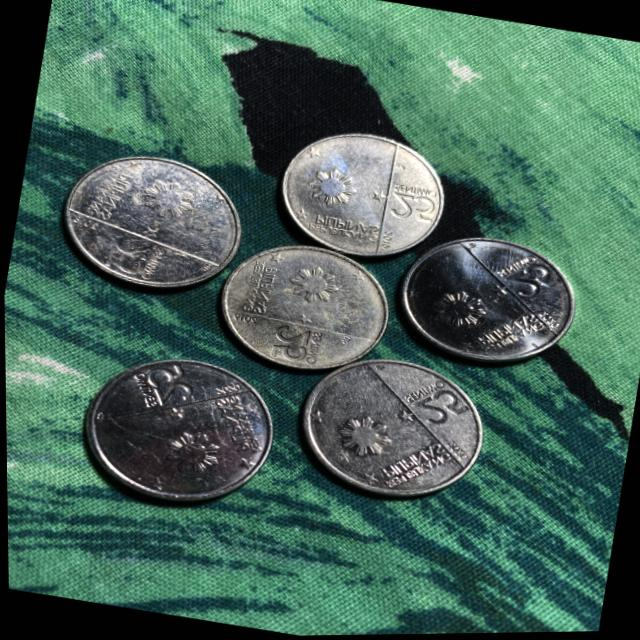25Cent_New_Front: (142, 356, 197, 411), (410, 385, 471, 432), (500, 260, 558, 306), (102, 233, 153, 278), (263, 321, 311, 366), (384, 188, 437, 227)
